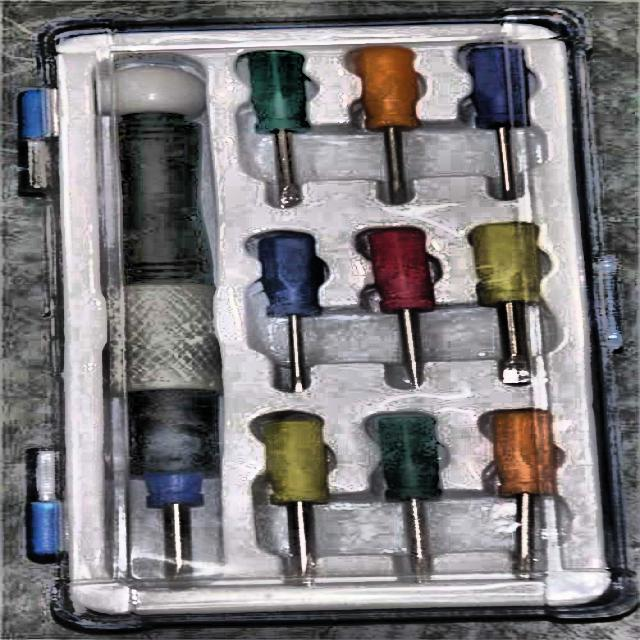screwdriver: (378, 415, 456, 585), (471, 224, 544, 384), (486, 412, 554, 580), (260, 418, 330, 579), (244, 50, 315, 206), (370, 228, 436, 392), (353, 46, 421, 203), (260, 235, 324, 388), (465, 44, 522, 200)
